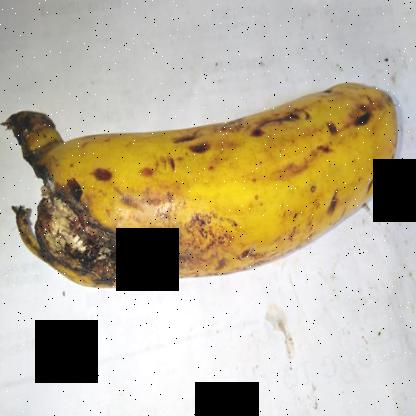ripe: (4, 75, 399, 310)
rotten: (2, 190, 156, 311)
